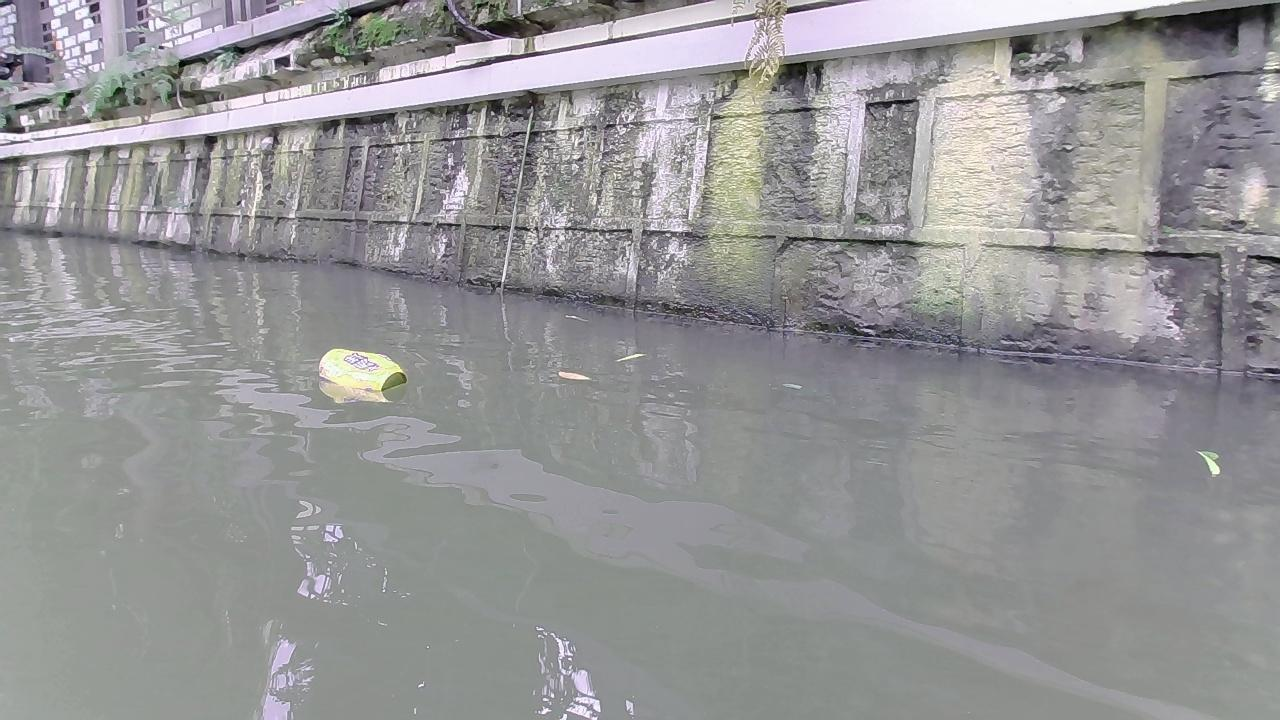Metal: (318, 347, 408, 393)
